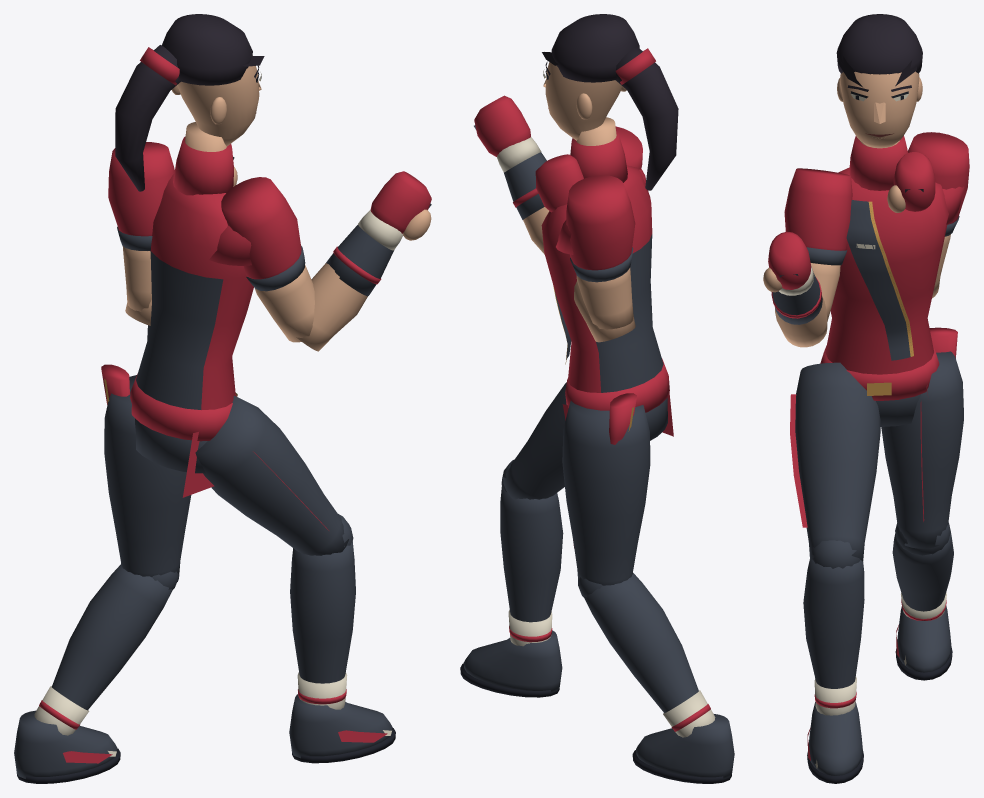
Rendered from mei-rig-v3.glb.
3 renders of one model, left to right at view 1: azimuth 30°, elevation 25°; view 2: azimuth 150°, elevation 25°; view 3: azimuth 270°, elevation 25°, orthographic. The views are drawn at different scales.
Parts seen in each view (by area): view 1: mei__torso_surface, mei__head_surface, mei__thighF_surface, mei__shinB_surface, mei__thighB_surface, mei__shinF_surface, mei__upperArmF_surface, mei__forearmF_surface, mei__upperArmB_surface, mei__pelvis_surface, mei__footB_surface, mei__footF_surface (+2 smaller); view 2: mei__torso_surface, mei__thighB_surface, mei__head_surface, mei__shinB_surface, mei__upperArmB_surface, mei__shinF_surface, mei__footB_surface, mei__footF_surface, mei__thighF_surface, mei__forearmF_surface, mei__pelvis_surface, mei__handF_surface (+4 smaller); view 3: mei__torso_surface, mei__thighF_surface, mei__thighB_surface, mei__head_surface, mei__shinF_surface, mei__upperArmF_surface, mei__shinB_surface, mei__footF_surface, mei__footB_surface, mei__pelvis_surface, mei__forearmF_surface, mei__upperArmB_surface (+3 smaller).
Part boxes in pixels (left/top/right/bottom): mei__torso_surface: left=136, top=122, right=253, bottom=410; mei__head_surface: left=115, top=14, right=264, bottom=191; mei__thighF_surface: left=195, top=395, right=348, bottom=555; mei__shinB_surface: left=34, top=564, right=178, bottom=735; mei__thighB_surface: left=104, top=375, right=191, bottom=581; mei__shinF_surface: left=290, top=514, right=355, bottom=709; mei__upperArmF_surface: left=221, top=177, right=314, bottom=342; mei__forearmF_surface: left=296, top=210, right=402, bottom=351; mei__upperArmB_surface: left=108, top=142, right=174, bottom=311; mei__pelvis_surface: left=130, top=373, right=237, bottom=497; mei__footB_surface: left=14, top=710, right=120, bottom=783; mei__footF_surface: left=289, top=694, right=395, bottom=763; mei__torso_surface: left=541, top=117, right=663, bottom=392; mei__thighB_surface: left=562, top=401, right=650, bottom=585; mei__head_surface: left=542, top=14, right=678, bottom=190; mei__shinB_surface: left=578, top=573, right=715, bottom=737; mei__upperArmB_surface: left=566, top=175, right=635, bottom=329; mei__shinF_surface: left=500, top=459, right=563, bottom=646; mei__footB_surface: left=632, top=714, right=734, bottom=783; mei__footF_surface: left=460, top=630, right=562, bottom=697; mei__thighF_surface: left=503, top=382, right=566, bottom=499; mei__forearmF_surface: left=497, top=137, right=549, bottom=254; mei__pelvis_surface: left=562, top=358, right=673, bottom=440; mei__handF_surface: left=474, top=95, right=530, bottom=156; mei__torso_surface: left=825, top=136, right=964, bottom=374; mei__thighF_surface: left=790, top=362, right=880, bottom=561; mei__thighB_surface: left=881, top=351, right=963, bottom=548; mei__head_surface: left=836, top=14, right=922, bottom=148; mei__shinF_surface: left=803, top=540, right=864, bottom=715; mei__upperArmF_surface: left=784, top=168, right=852, bottom=321; mei__shinB_surface: left=892, top=522, right=953, bottom=620; mei__footF_surface: left=807, top=702, right=863, bottom=783; mei__footB_surface: left=895, top=605, right=952, bottom=680; mei__pelvis_surface: left=820, top=345, right=939, bottom=426; mei__forearmF_surface: left=771, top=266, right=827, bottom=347; mei__upperArmB_surface: left=908, top=132, right=969, bottom=276.
Size of the model in its own units: 1.57 by 3.25 by 0.8851.
